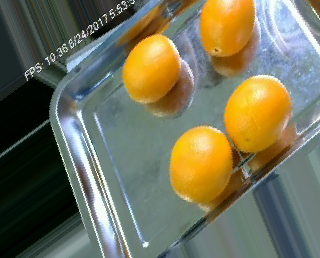Orange: (223, 74, 293, 152), (168, 124, 233, 204), (122, 34, 181, 103), (200, 1, 258, 56)
